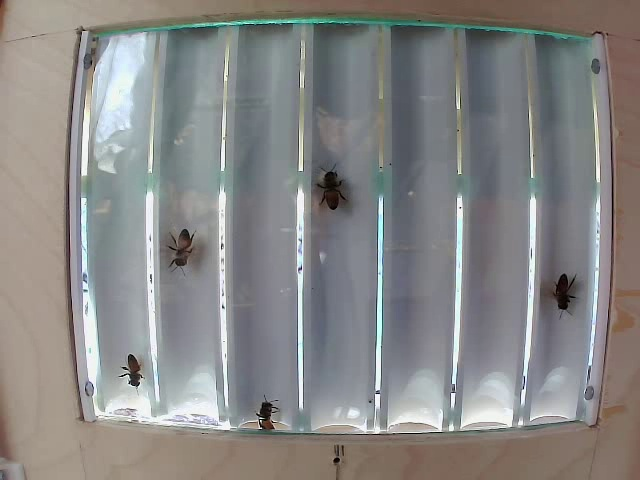bee: (308, 161, 357, 233), (99, 350, 144, 393), (165, 221, 197, 281), (548, 277, 572, 314)
